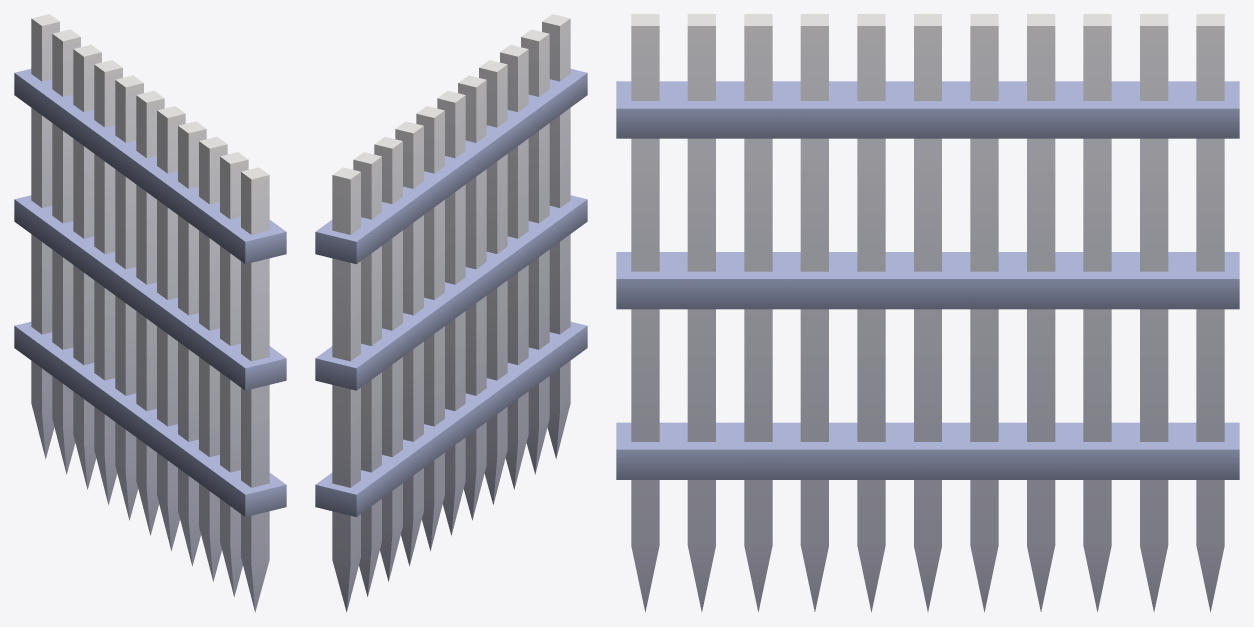
File: metal-gate.glb
The picture shows the model from 3 angles, left to right: view 1: azimuth 30°, elevation 25°; view 2: azimuth 150°, elevation 25°; view 3: azimuth 270°, elevation 25°; orthographic projection. The views are drawn at different scales.
Visible parts, largest first — view 1: metal-gate; view 2: metal-gate; view 3: metal-gate.
Boxes of the visible parts, x1,y1,x2,y2 form: metal-gate: [14, 14, 286, 612]; metal-gate: [315, 14, 587, 612]; metal-gate: [616, 14, 1239, 612].
Size of the model in its own units: 0.0715 by 0.7301 by 0.6952.
Materials: 1 (1 with a texture image).
